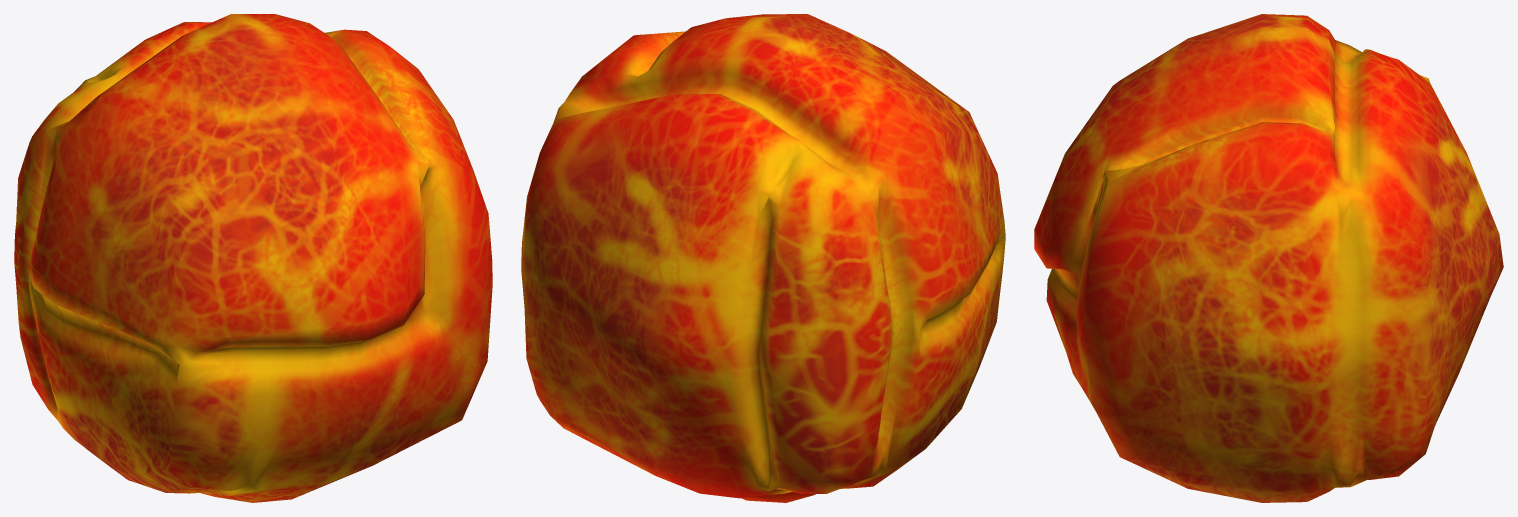
The model's file is Bolita fuego pintada 01.fbx.
The picture shows the model from 3 angles, left to right: view 1: azimuth 30°, elevation 25°; view 2: azimuth 150°, elevation 25°; view 3: azimuth 270°, elevation 25°; orthographic projection. The views are drawn at different scales.
Parts seen in each view (by area): view 1: Bolita fuego; view 2: Bolita fuego; view 3: Bolita fuego.
Part boxes in pixels (bbox=[...]): Bolita fuego: bbox=[14, 14, 492, 502]; Bolita fuego: bbox=[521, 14, 1005, 502]; Bolita fuego: bbox=[1034, 14, 1503, 502].
Size of the model in its own units: 51.22 by 54.96 by 51.17.
Materials: 1 (1 with a texture image).
